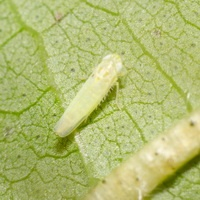insect: (54, 54, 126, 136)
